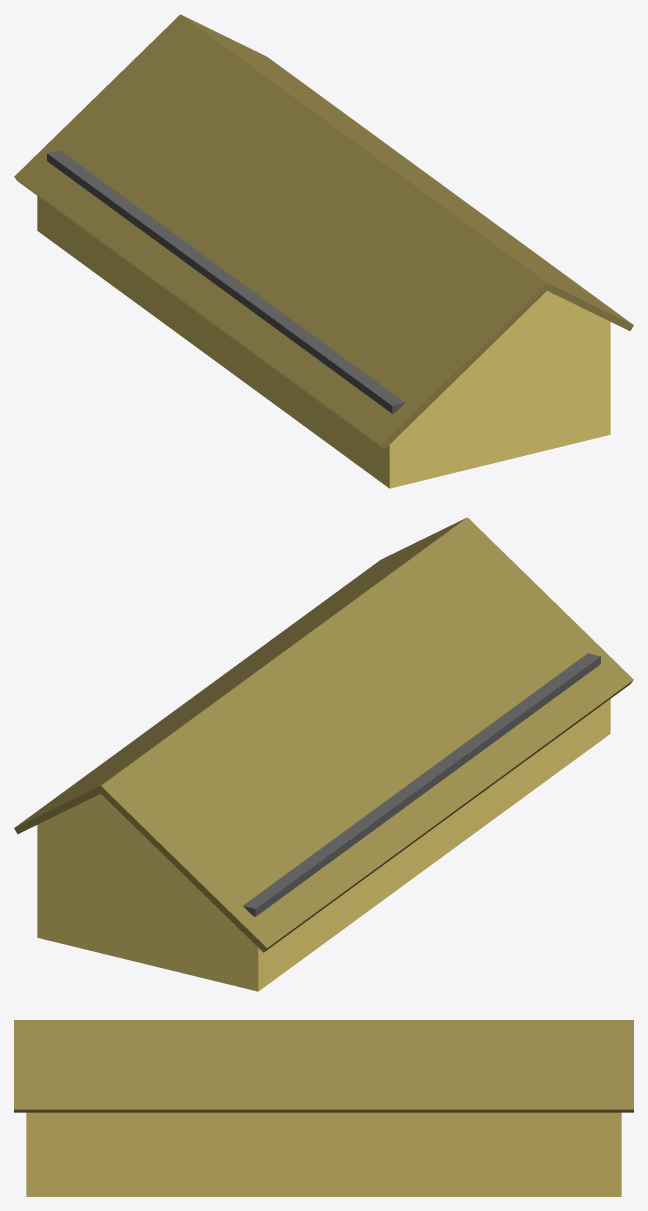
Rendered from result.glb.
3 views of the same model, one above another, from view 1: azimuth 30°, elevation 25°; view 2: azimuth 150°, elevation 25°; view 3: azimuth 270°, elevation 25° (orthographic). The views are drawn at different scales.
Parts seen in each view (by area): view 1: 4144d143-e2be-410d-9379-a2e58b05f625__undefined (×2), 9d7de1f4-729b-4b79-b790-035f4bcb1848__undefined, 25d6b50c-10d4-4cd3-8c79-b7f812066f36__Box; view 2: 4144d143-e2be-410d-9379-a2e58b05f625__undefined (×2), 9d7de1f4-729b-4b79-b790-035f4bcb1848__undefined, 25d6b50c-10d4-4cd3-8c79-b7f812066f36__Box; view 3: 4144d143-e2be-410d-9379-a2e58b05f625__undefined, 9d7de1f4-729b-4b79-b790-035f4bcb1848__undefined.
Boxes of the visible parts, x1,y1,x2,y2 form: 4144d143-e2be-410d-9379-a2e58b05f625__undefined (×2): [14, 14, 633, 449]; 9d7de1f4-729b-4b79-b790-035f4bcb1848__undefined: [37, 196, 610, 488]; 25d6b50c-10d4-4cd3-8c79-b7f812066f36__Box: [47, 150, 404, 413]; 4144d143-e2be-410d-9379-a2e58b05f625__undefined (×2): [14, 517, 633, 952]; 9d7de1f4-729b-4b79-b790-035f4bcb1848__undefined: [37, 699, 610, 991]; 25d6b50c-10d4-4cd3-8c79-b7f812066f36__Box: [243, 653, 600, 916]; 4144d143-e2be-410d-9379-a2e58b05f625__undefined: [14, 1020, 633, 1112]; 9d7de1f4-729b-4b79-b790-035f4bcb1848__undefined: [26, 1112, 621, 1196].
Size of the model in its own units: 1013 by 667 by 2541.
